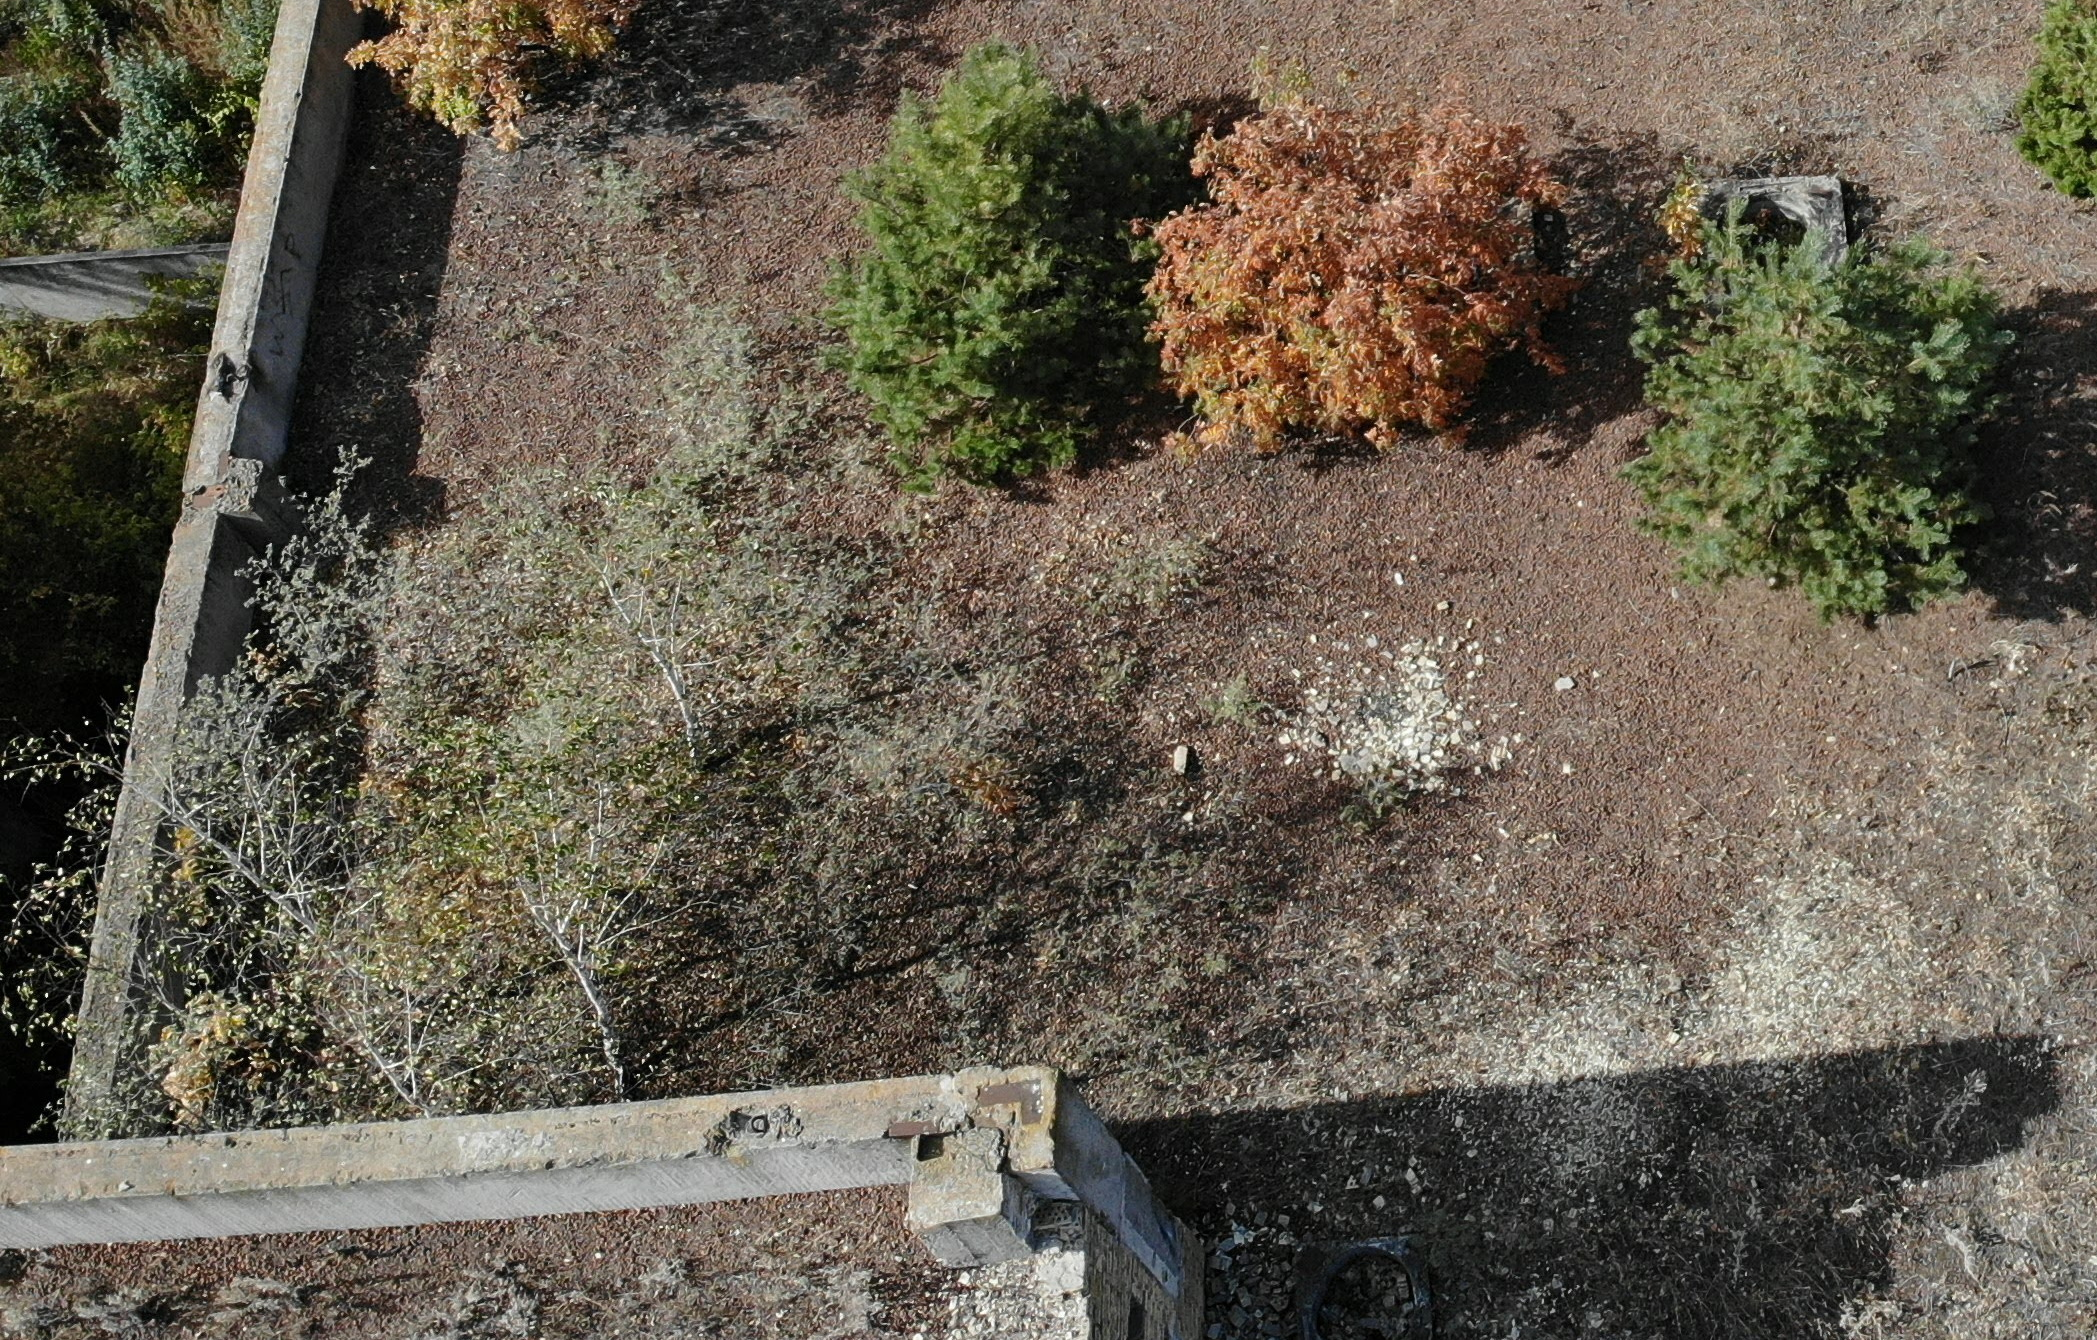tree: (76, 665, 514, 1183), (786, 31, 1220, 526), (1137, 83, 1587, 503), (1643, 176, 2022, 659), (449, 442, 865, 842), (422, 729, 750, 1167), (1252, 608, 1530, 868), (358, 2, 689, 215)
